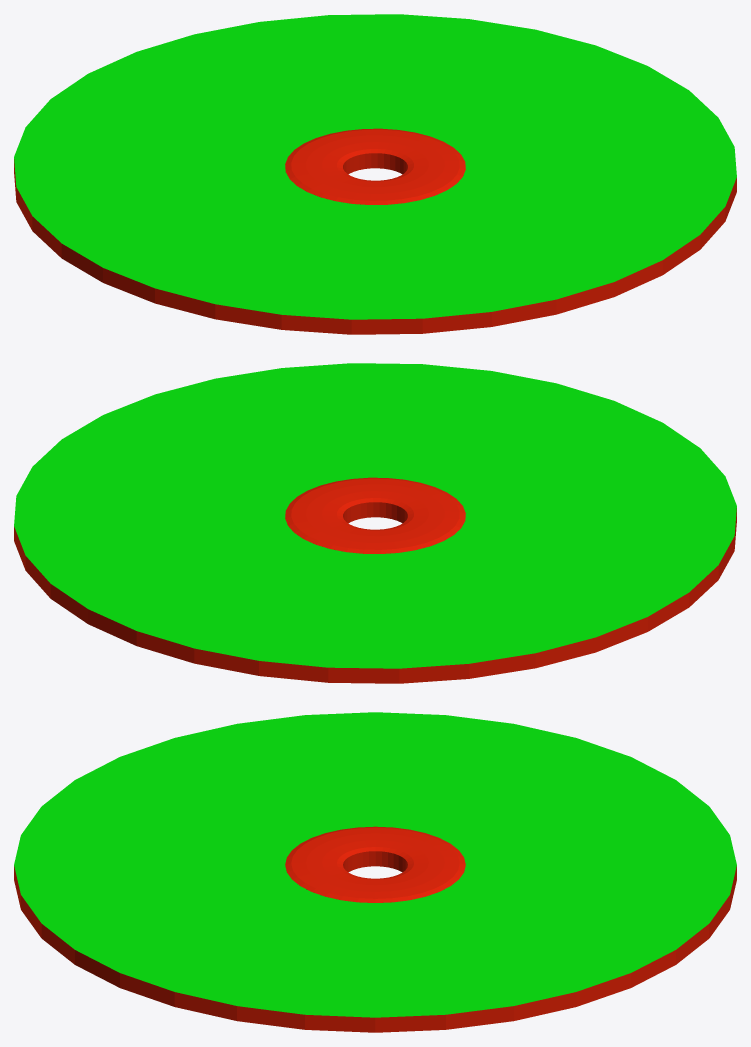
3 renders of one model, top to bottom at view 1: azimuth 30°, elevation 25°; view 2: azimuth 150°, elevation 25°; view 3: azimuth 270°, elevation 25°, orthographic.
Visible parts, largest first — view 1: CD; view 2: CD; view 3: CD.
Part boxes in pixels (x1,y1,x2,y2): CD: [14, 14, 736, 334]; CD: [14, 363, 736, 683]; CD: [14, 712, 736, 1032].
Size of the model in its own units: 200 by 200 by 6.
